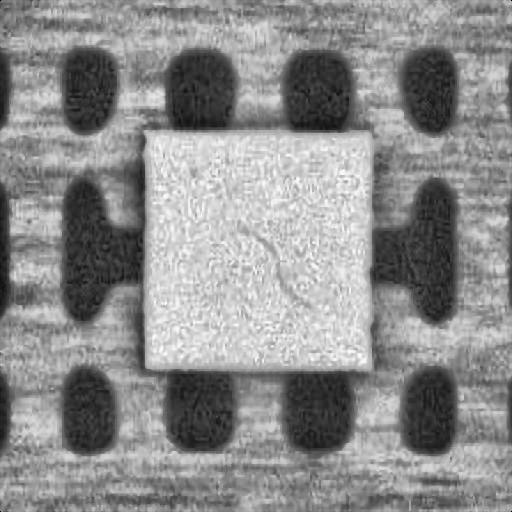DIE_CRACK: (230, 220, 308, 305)
